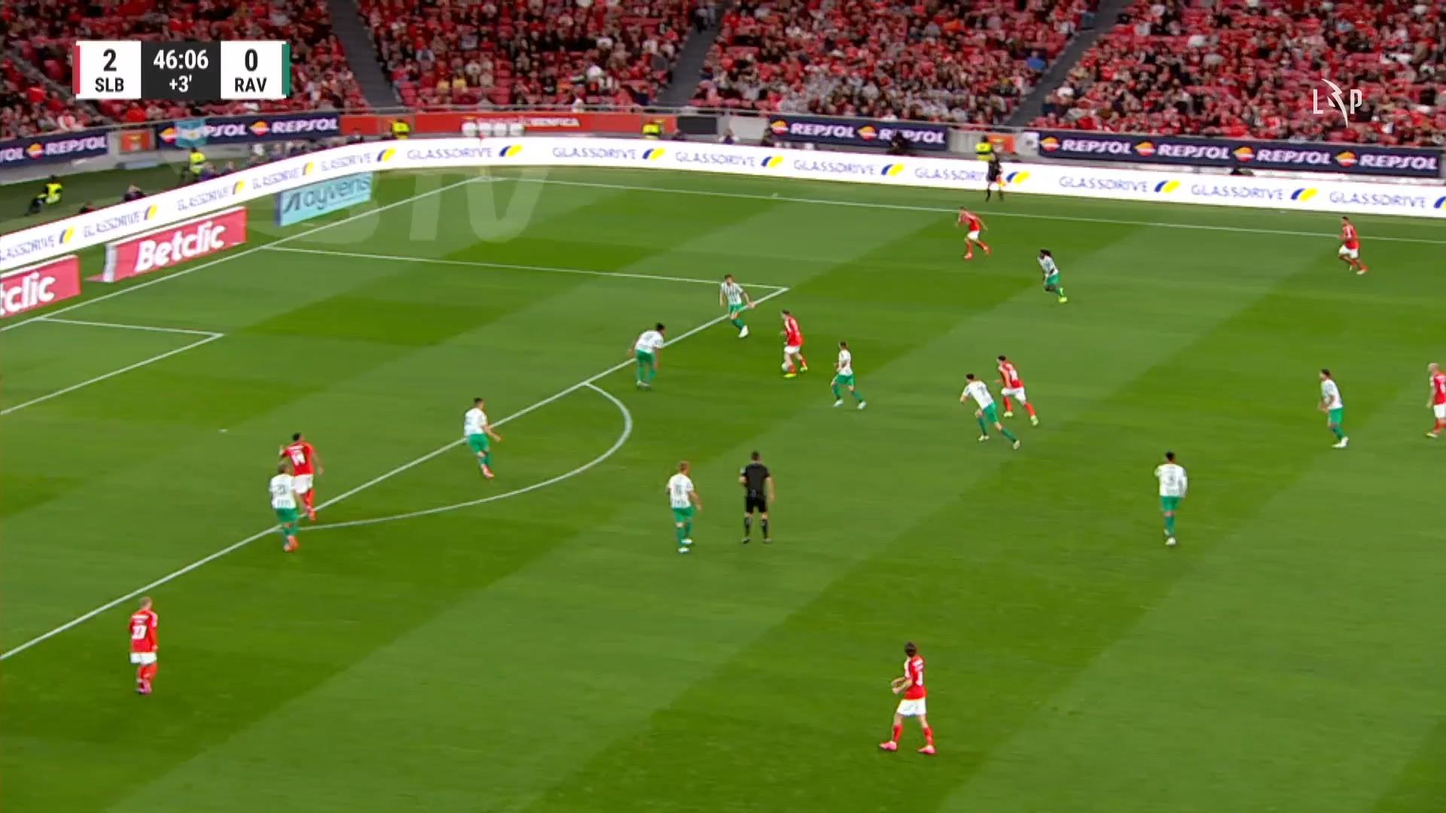ball: (781, 362, 790, 372)
player: (878, 641, 937, 755), (959, 372, 1020, 451), (277, 431, 324, 522), (665, 460, 702, 553), (1153, 449, 1188, 545), (462, 396, 502, 479), (995, 353, 1039, 427), (127, 595, 159, 695), (267, 458, 301, 551), (829, 340, 867, 410), (627, 321, 666, 388), (1316, 367, 1348, 448), (718, 273, 754, 338), (778, 308, 807, 378), (954, 206, 990, 260), (1336, 215, 1367, 275), (1036, 248, 1067, 303), (1423, 361, 1444, 438)
referee: (738, 449, 775, 544), (983, 151, 1005, 201)
